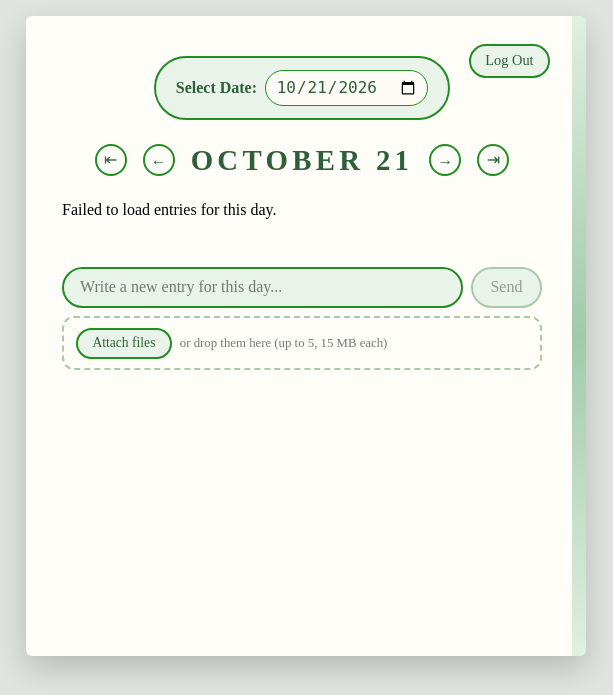
Scenario: JournalApp › date navigation › clears a load error once a later load succeeds
Expected: the text "Failed to load entries for this day." is shown, [62,201,276,218]
Click the button named "Next day": (445, 160) [429,144,461,176]
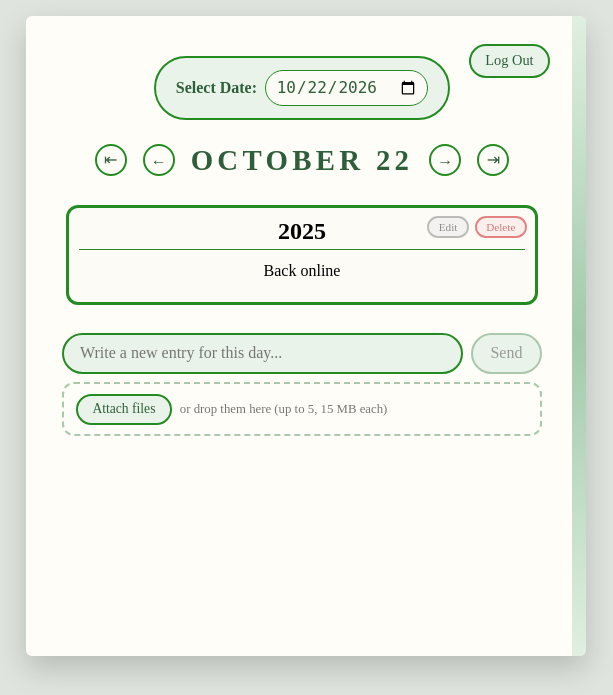
Expected: the text "Back online" is shown, [79,258,525,283]
Expected: the text "Failed to load entries for this day." is gone
